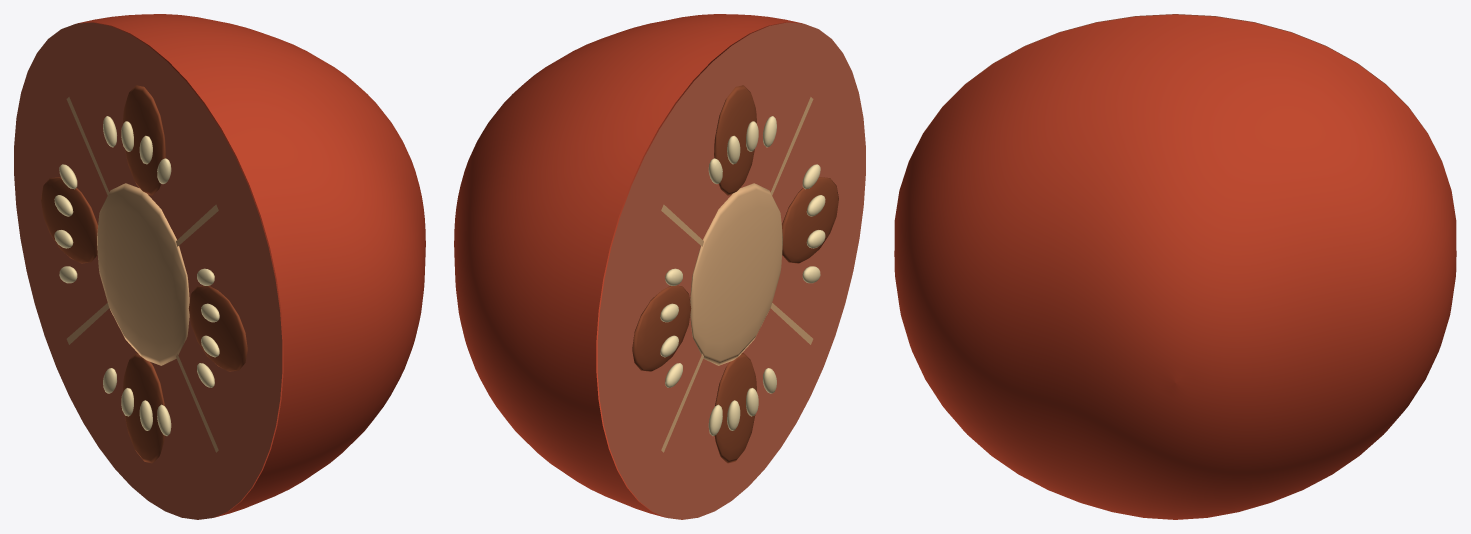
Rendered from campari_half.glb.
3 views of the same model, side by side, from view 1: azimuth 30°, elevation 25°; view 2: azimuth 150°, elevation 25°; view 3: azimuth 270°, elevation 25° (orthographic). The views are drawn at different scales.
Visible parts, largest first — view 1: Campari Campari dense coral flesh, Campari Campari vermilion satin skin, Campari Campari pale radial pith, Campari Four Campari amber gel locules, Campari Campari small cream seeds; view 2: Campari Campari dense coral flesh, Campari Campari vermilion satin skin, Campari Campari pale radial pith, Campari Four Campari amber gel locules, Campari Campari small cream seeds; view 3: Campari Campari vermilion satin skin, Campari Campari dense coral flesh.
Part boxes in pixels (x1,y1,x2,y2): Campari Campari dense coral flesh: (14,22,282,519); Campari Campari vermilion satin skin: (77,14,425,517); Campari Campari pale radial pith: (66,97,218,452); Campari Four Campari amber gel locules: (41,85,247,463); Campari Campari small cream seeds: (54,116,219,435); Campari Campari dense coral flesh: (597,22,865,519); Campari Campari vermilion satin skin: (454,14,802,517); Campari Campari pale radial pith: (661,97,813,452); Campari Four Campari amber gel locules: (632,85,838,463); Campari Campari small cream seeds: (660,116,825,435); Campari Campari vermilion satin skin: (894,14,1456,519); Campari Campari dense coral flesh: (895,14,1455,215).
Bounding box in the file's own units: 0.6377 × 1.02 × 1.09.
